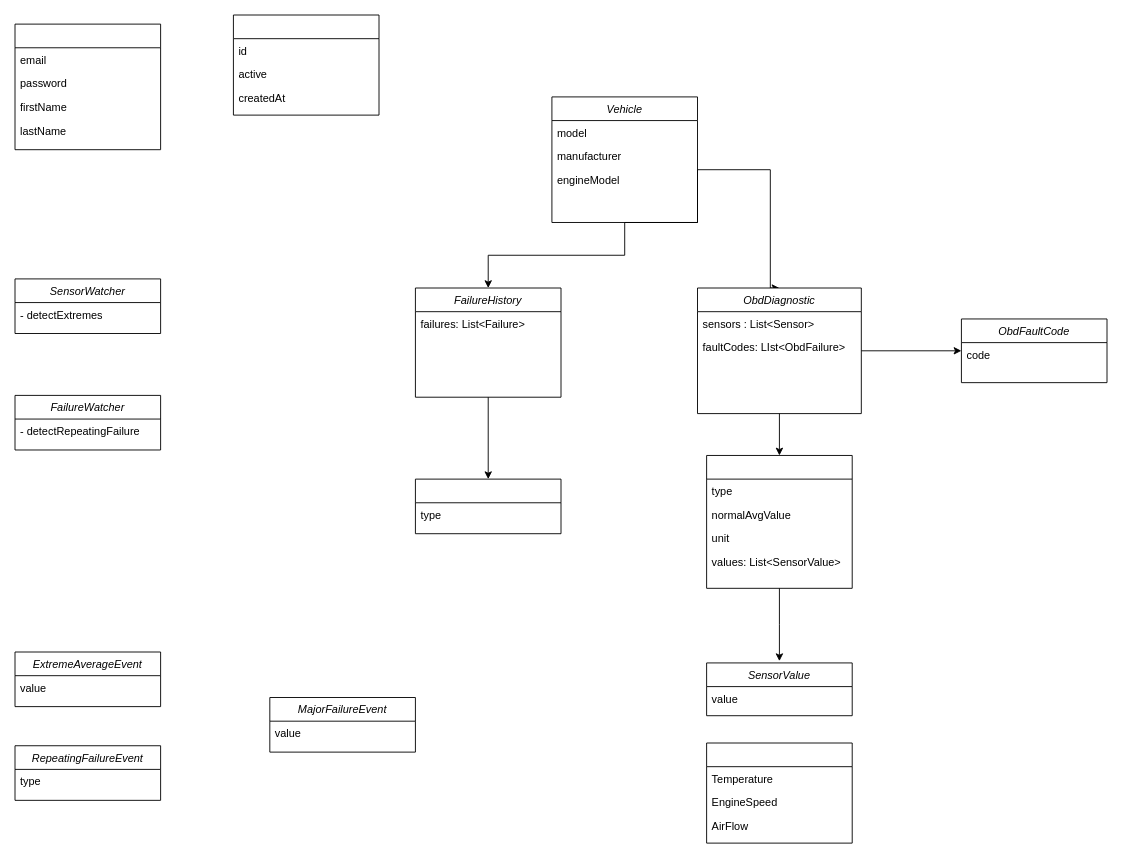
The diagram is 1122 pixels wide and 858 high, and some of its shapes have lost their labels. The shapes that lost their labels are listed below. From the top down, each one's box as (x1, y1, x2, y2) in pixels, then its label:
(233, 14, 379, 115): BaseEntity
(14, 23, 161, 150): User
(415, 478, 561, 534): Failure
(706, 455, 852, 588): Sensor
(706, 742, 852, 843): SensorType
